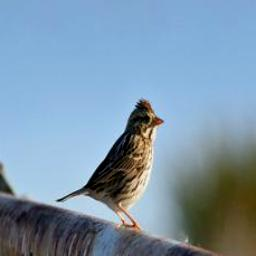Sparrow: (55, 97, 165, 230)
